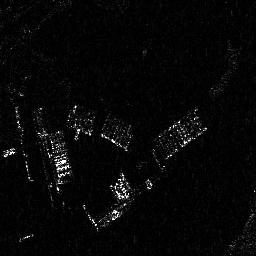ship: (98, 204, 129, 226)
